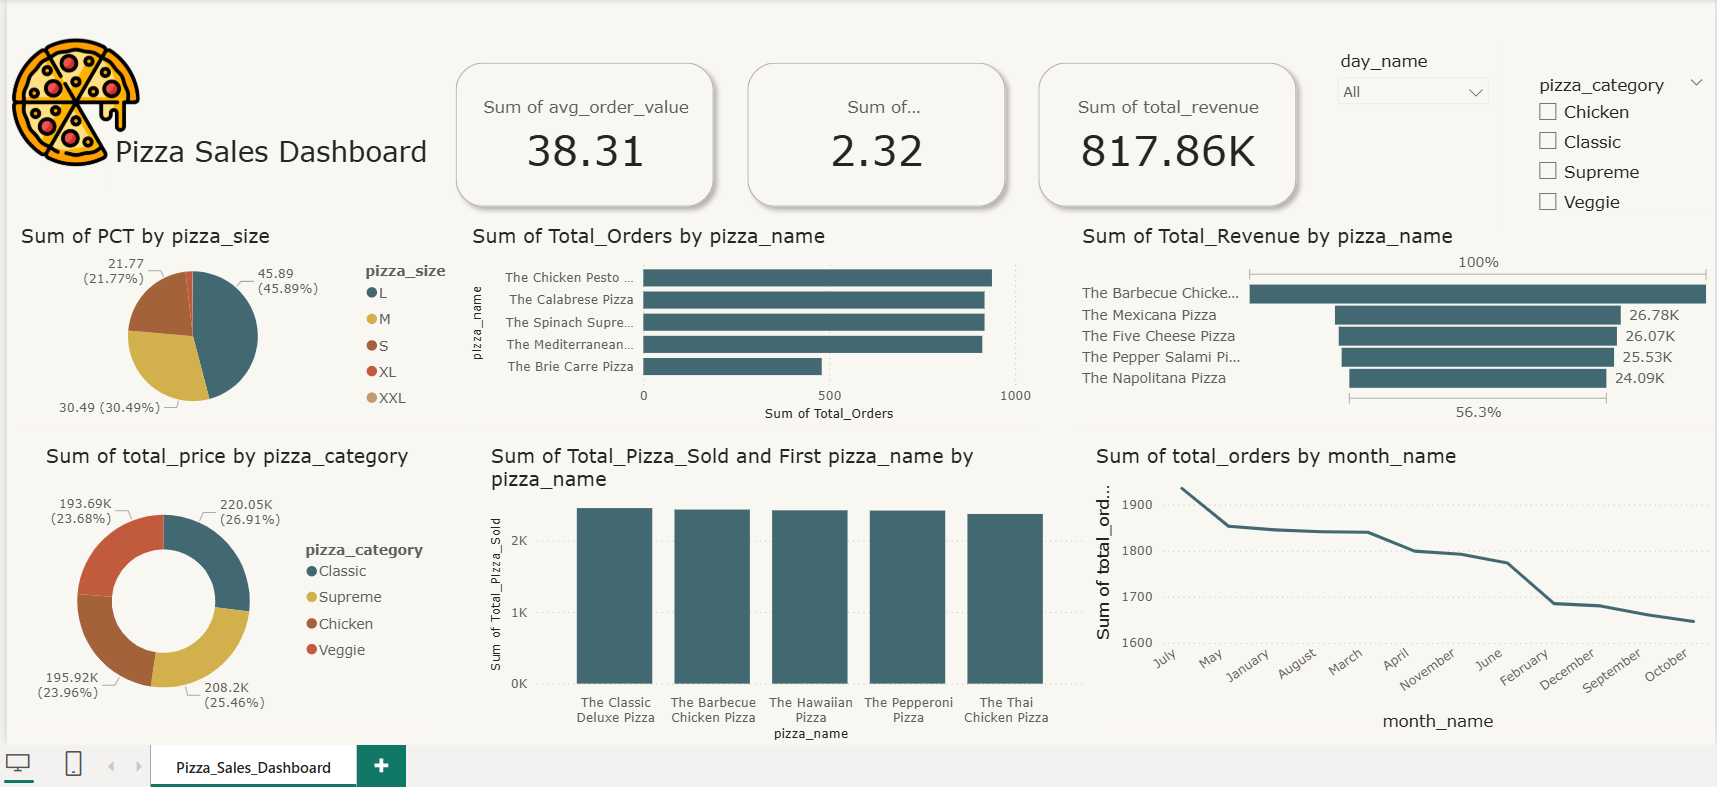

The page's visual inventory and layout, read from the dashboard file:
{"tool":"powerbi","page":{"name":"Pizza_Sales_Dashboard","canvas":[1650,720],"ordinal":0},"visuals":[{"type":"cardVisual","fields":{"Data":["Sum(avg_order_value.avg_order_value)","Sum(average_pizza_per_order.average_pizza_per_orders)","Sum(total_revenue.total_revenue)"]},"box":[415.7,44.2,845.5,173.3],"z":0},{"type":"donutChart","fields":{"Category":["pizza_sales_Table.pizza_category"],"Y":["Sum(pizza_sales_Table.total_price)"]},"box":[9.6,429.5,406.2,281.3],"z":1000},{"type":"columnChart","fields":{"Y":["Sum(top_5_pizza_by_quantity.Total_Pizza_Sold)"],"Category":["top_5_pizza_by_quantity.pizza_name"]},"box":[462.4,429.5,583.2,290.9],"z":2000},{"type":"lineChart","fields":{"Category":["Monthly_Trend_for_Total_orders.month_name"],"Y":["Sum(Monthly_Trend_for_Total_orders.total_orders)"]},"box":[1045.4,429.8,605,281.3],"z":3000},{"type":"funnel","fields":{"Category":["top_5_pizza_by_revenue.pizza_name"],"Y":["Sum(top_5_pizza_by_revenue.Total_Revenue)"]},"box":[1033,217.6,617.3,194.6],"z":4000},{"type":"pieChart","fields":{"Category":["SALES_PER_BY_PIZZA_Sizes.pizza_size"],"Y":["Sum(SALES_PER_BY_PIZZA_Sizes.PCT)"]},"box":[8.8,217.6,433.4,194.6],"z":5000},{"type":"barChart","fields":{"Y":["Sum(Bottom_5_pizza_by_Total_Orders.Total_Orders)"],"Category":["Bottom_5_pizza_by_Total_Orders.pizza_name"]},"box":[444,217.6,550.1,194.6],"z":6000},{"type":"slicer","fields":{"Values":["SALES_PER_BY_PIZZA_CATEGORY.pizza_category"]},"box":[1466.4,67.2,184,150.4],"z":7000},{"type":"slicer","fields":{"Values":["Daily_Trend_for_Total_orders.day_name"]},"box":[1273.6,44.2,166.3,173.3],"z":8000},{"type":"textbox","box":[93.8,125.6,321.9,58.4],"z":9000},{"type":"image","box":[0,44.2,132.7,139.7],"z":10000}]}

Visuals, with their boxes on the page's 1650x720 design canvas (x1, y1, x2, y2). These are canvas units, not pixel positions in the 1717x787 screenshot, which may show the page scaled, cropped or inside an application window:
cardVisual - Sum(avg_order_value.avg_order_value) x Sum(average_pizza_per_order.average_pizza_per_orders): locate(416, 44, 1261, 218)
donutChart - pizza_sales_Table.pizza_category x Sum(pizza_sales_Table.total_price): locate(10, 430, 416, 711)
columnChart - Sum(top_5_pizza_by_quantity.Total_Pizza_Sold) x top_5_pizza_by_quantity.pizza_name: locate(462, 430, 1046, 720)
lineChart - Monthly_Trend_for_Total_orders.month_name x Sum(Monthly_Trend_for_Total_orders.total_orders): locate(1045, 430, 1650, 711)
funnel - top_5_pizza_by_revenue.pizza_name x Sum(top_5_pizza_by_revenue.Total_Revenue): locate(1033, 218, 1650, 412)
pieChart - SALES_PER_BY_PIZZA_Sizes.pizza_size x Sum(SALES_PER_BY_PIZZA_Sizes.PCT): locate(9, 218, 442, 412)
barChart - Sum(Bottom_5_pizza_by_Total_Orders.Total_Orders) x Bottom_5_pizza_by_Total_Orders.pizza_name: locate(444, 218, 994, 412)
slicer - SALES_PER_BY_PIZZA_CATEGORY.pizza_category: locate(1466, 67, 1650, 218)
slicer - Daily_Trend_for_Total_orders.day_name: locate(1274, 44, 1440, 218)
textbox: locate(94, 126, 416, 184)
image: locate(0, 44, 133, 184)
